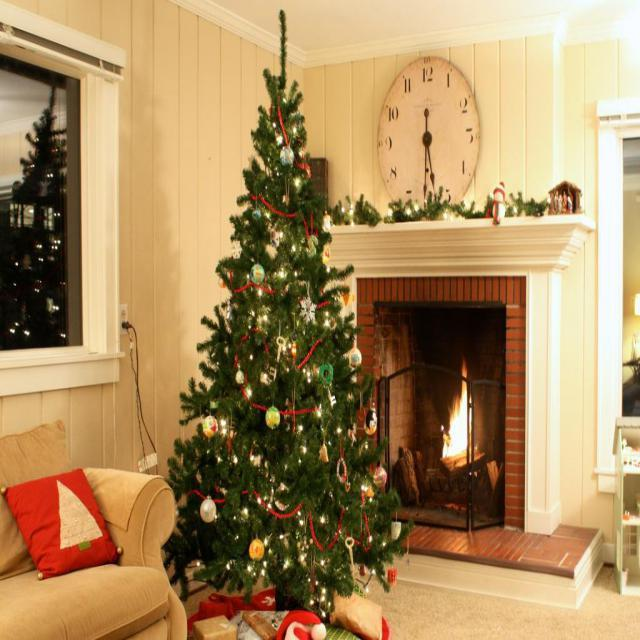Fire: (433, 371, 478, 468)
